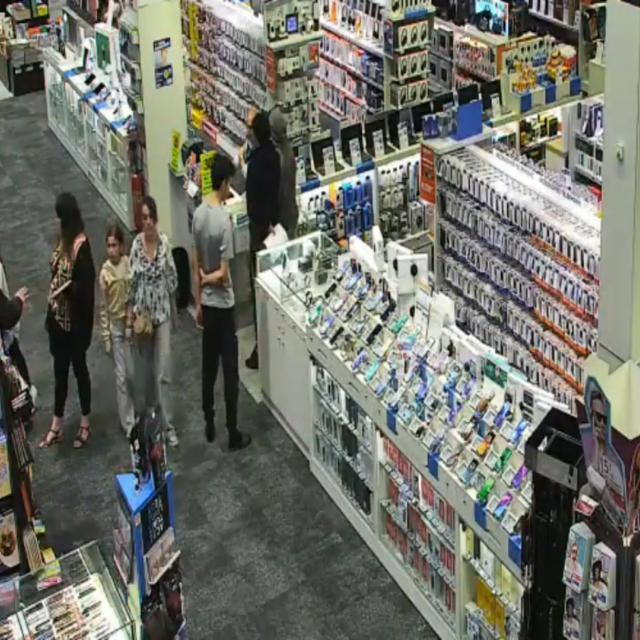bags: (133, 310, 153, 335)
hands: (15, 287, 29, 308), (200, 268, 211, 285), (238, 144, 246, 167), (196, 304, 203, 327), (125, 325, 132, 344), (105, 340, 112, 356)
person: (193, 155, 250, 450), (41, 194, 95, 447), (128, 197, 177, 445), (246, 112, 280, 369), (99, 222, 134, 436), (0, 258, 37, 404), (270, 107, 299, 238)
